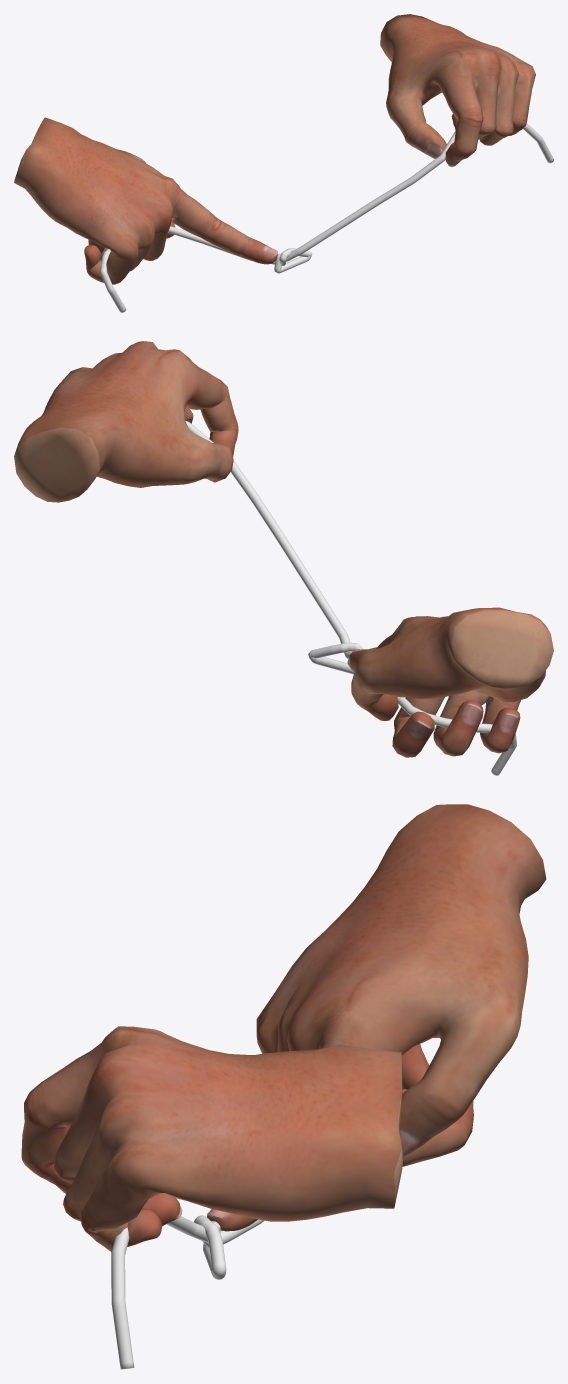
File: mfk_part4_assi_press.fbx
3 renders of one model, top to bottom at view 1: azimuth 30°, elevation 25°; view 2: azimuth 150°, elevation 25°; view 3: azimuth 270°, elevation 25°, orthographic. The views are drawn at different scales.
Parts seen in each view (by area): view 1: Hand_R, Hand_L, faden_L, faden_R; view 2: Hand_L, Hand_R, faden_L, faden_R; view 3: Hand_L, Hand_R, faden_L, faden_R.
Boxes of the visible parts, left/top/right/bottom form: Hand_R: left=14, top=117, right=277, bottom=284; Hand_L: left=380, top=14, right=535, bottom=166; faden_L: left=274, top=123, right=553, bottom=273; faden_R: left=100, top=226, right=312, bottom=312; Hand_L: left=14, top=341, right=238, bottom=502; Hand_R: left=349, top=607, right=553, bottom=757; faden_L: left=185, top=420, right=353, bottom=674; faden_R: left=308, top=642, right=516, bottom=775; Hand_L: left=21, top=1026, right=402, bottom=1251; Hand_R: left=207, top=804, right=546, bottom=1231; faden_L: left=111, top=1216, right=220, bottom=1369; faden_R: left=194, top=1215, right=264, bottom=1279.
Size of the model in its own units: 44.9 by 20.41 by 22.22.
